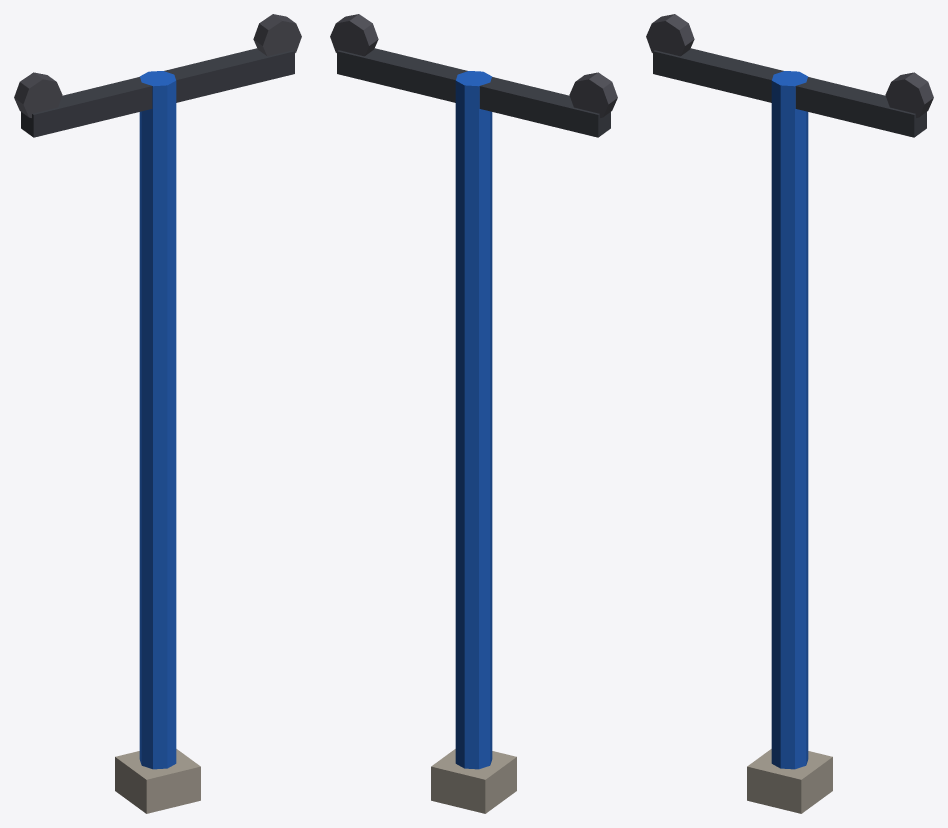
The model's file is lift_pylon.glb.
The picture shows the model from 3 angles, left to right: view 1: azimuth 30°, elevation 25°; view 2: azimuth 150°, elevation 25°; view 3: azimuth 330°, elevation 25°; orthographic projection.
Visible parts, largest first — view 1: lift_pylon; view 2: lift_pylon; view 3: lift_pylon.
Part boxes in pixels (x1,y1,x2,y2): lift_pylon: (14,14,301,813); lift_pylon: (330,14,617,813); lift_pylon: (646,14,933,813).
Size of the model in its own units: 2.56 by 6.58 by 0.5.
